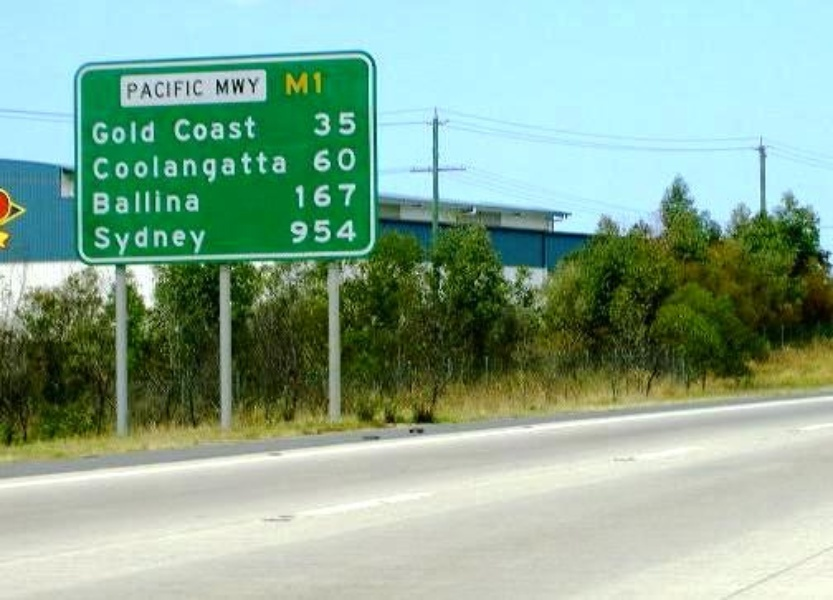text: (97, 149, 112, 184), (113, 149, 128, 184), (129, 149, 144, 184), (145, 149, 160, 184), (161, 149, 176, 184), (177, 149, 192, 184), (193, 149, 208, 184), (209, 149, 224, 184), (225, 149, 240, 184), (241, 149, 256, 184), (257, 149, 272, 184), (273, 149, 288, 184), (97, 224, 112, 257), (113, 224, 128, 257), (129, 224, 144, 257), (145, 224, 160, 257), (161, 224, 176, 257), (177, 224, 192, 257), (193, 224, 207, 257), (97, 118, 112, 148), (113, 118, 128, 148), (129, 118, 144, 148), (177, 115, 192, 143), (193, 115, 208, 143), (209, 115, 224, 143), (225, 115, 240, 143), (241, 115, 256, 143), (305, 182, 320, 210), (321, 182, 336, 210), (337, 182, 352, 210), (97, 187, 112, 215), (113, 187, 128, 215), (129, 187, 144, 215), (145, 187, 160, 215), (161, 187, 176, 215), (177, 187, 192, 215), (321, 111, 336, 138), (337, 111, 352, 138), (321, 148, 336, 174), (337, 148, 352, 174), (289, 70, 304, 96), (305, 70, 320, 96), (145, 118, 158, 148), (305, 219, 320, 245), (321, 219, 336, 245), (337, 219, 352, 245), (290, 219, 304, 245), (129, 78, 144, 101), (145, 78, 160, 101), (161, 78, 176, 101), (177, 78, 192, 101), (293, 182, 304, 210), (225, 78, 240, 96), (241, 78, 256, 96), (193, 78, 204, 101), (193, 187, 202, 215), (313, 111, 320, 138), (313, 148, 320, 174), (214, 78, 224, 96), (91, 149, 96, 184), (353, 182, 359, 210), (353, 148, 359, 174), (353, 111, 358, 138), (353, 219, 358, 245), (172, 115, 176, 143), (93, 224, 96, 257), (93, 118, 96, 148), (93, 187, 96, 215), (285, 70, 288, 96), (289, 149, 291, 184), (257, 78, 260, 96), (321, 70, 323, 96), (126, 78, 128, 101), (257, 115, 258, 143)
